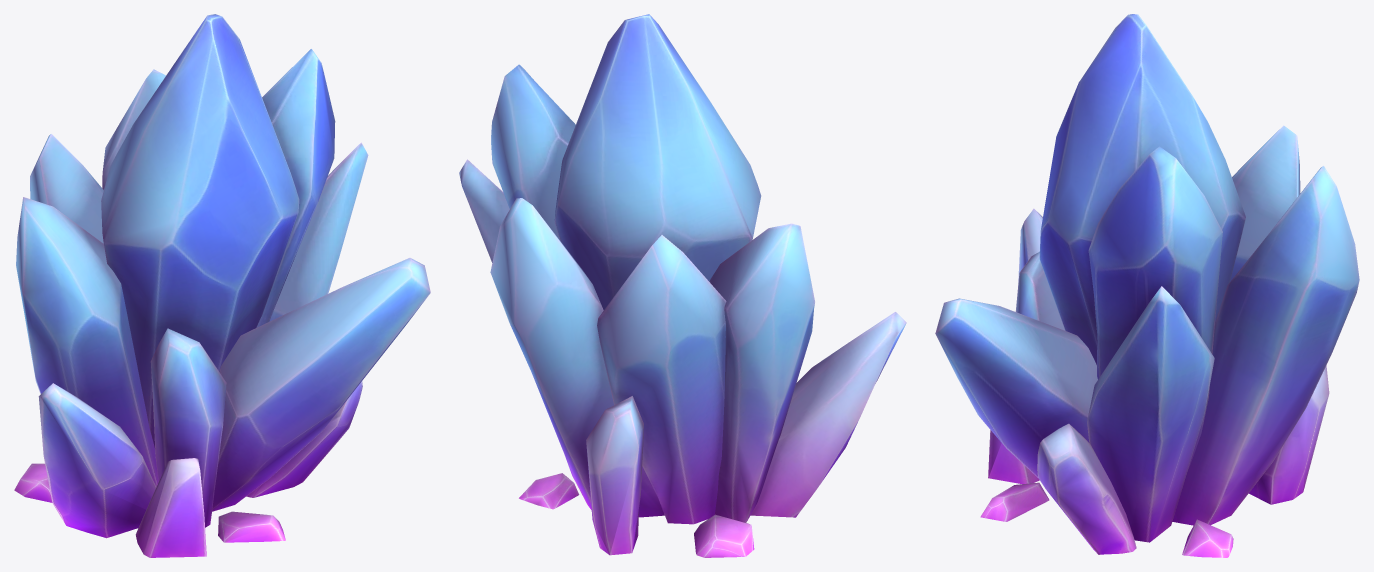
File: crystal.glb
3 views of the same model, side by side, from view 1: azimuth 30°, elevation 25°; view 2: azimuth 150°, elevation 25°; view 3: azimuth 270°, elevation 25° (orthographic). The views are drawn at different scales.
Parts seen in each view (by area): view 1: Crystal; view 2: Crystal; view 3: Crystal.
Part boxes in pixels (x1=…): Crystal: x1=14, y1=14, x2=430, y2=557; Crystal: x1=459, y1=14, x2=906, y2=557; Crystal: x1=935, y1=14, x2=1359, y2=557.
Bounding box in the file's own units: 2.1 × 2.46 × 1.89.
Materials: 1 (1 with a texture image).
